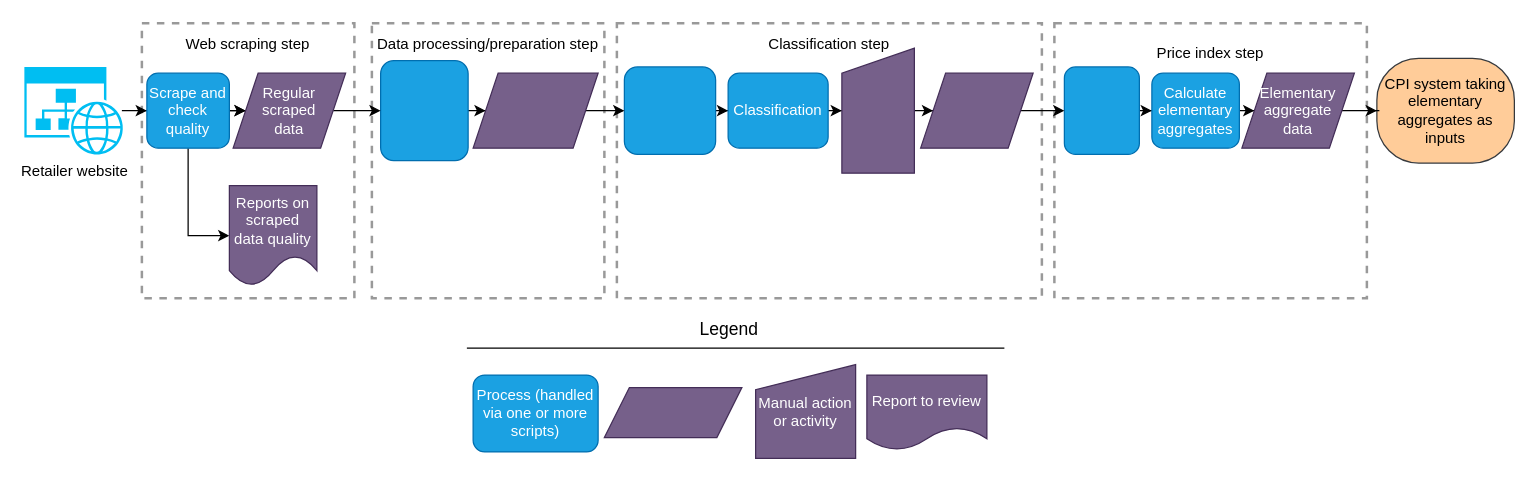
The diagram is 1536 pixels wide and 480 high, and some of its shapes have lost their labels. Each missing label, with the centre of its shape:
Classified scraped data: point 976,110
Data table: point 672,412
Isolate new unique products for classification: point 669,110
Manual Validation of records: point 877,110
Selection of strata of interest: point 1101,110
Standardize the data: point 423,110
Standardized scraped data: point 535,110
